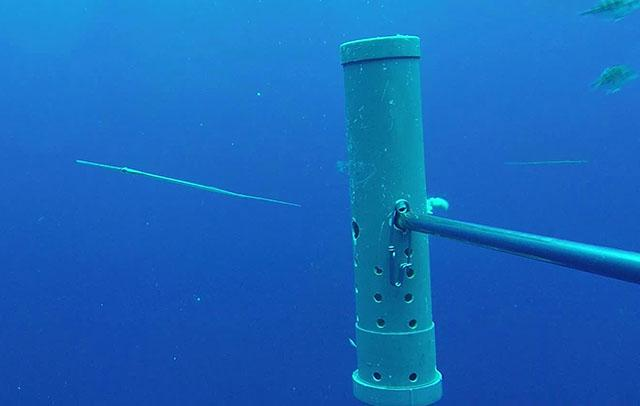Fistularia commersonii: (61, 152, 316, 231)
